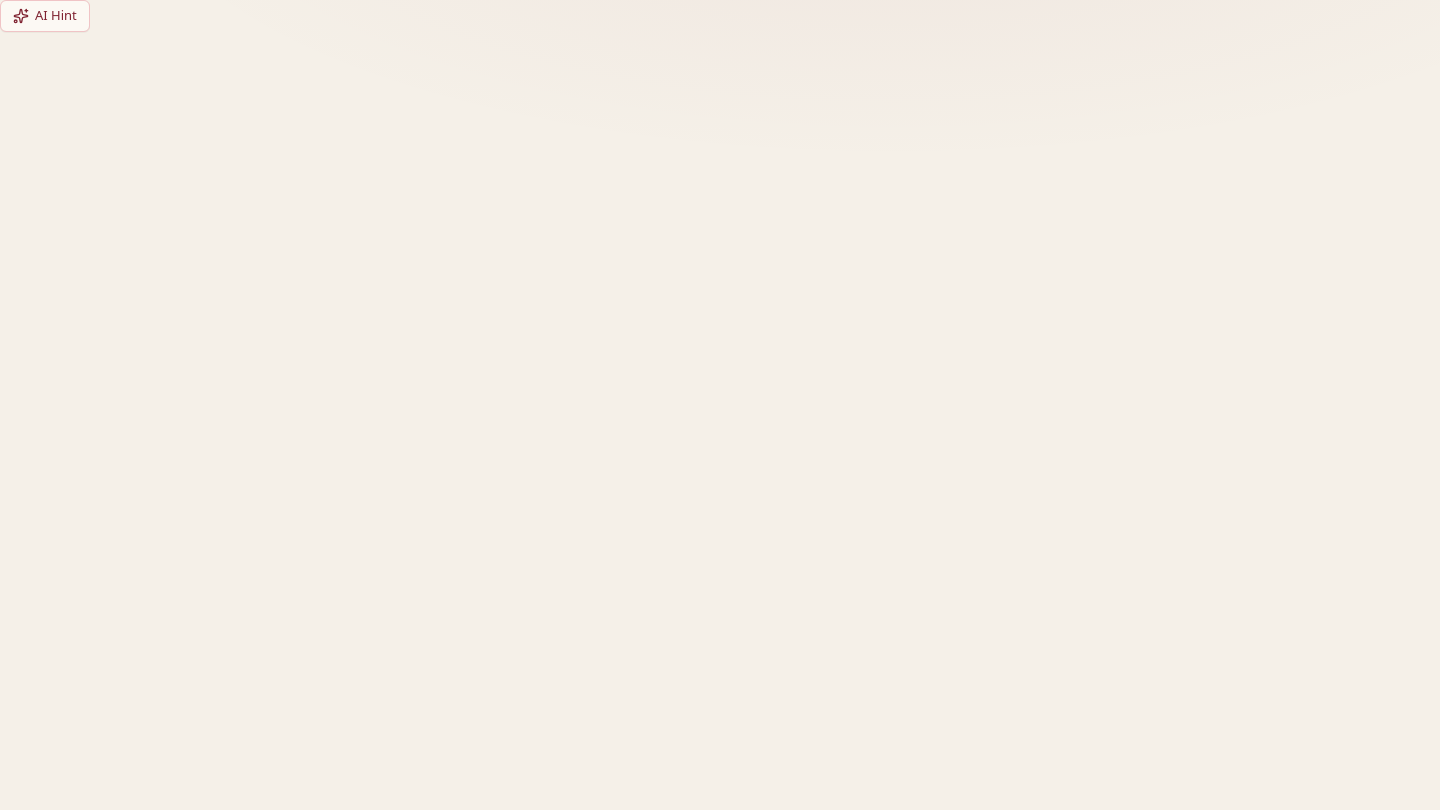
Scenario: a lab’s AI Hint (Phase 7E) › says why when the server refuses a hint, in safe words, and keeps the question
Click the button "AI Hint": (45, 16) [0,0,90,32]
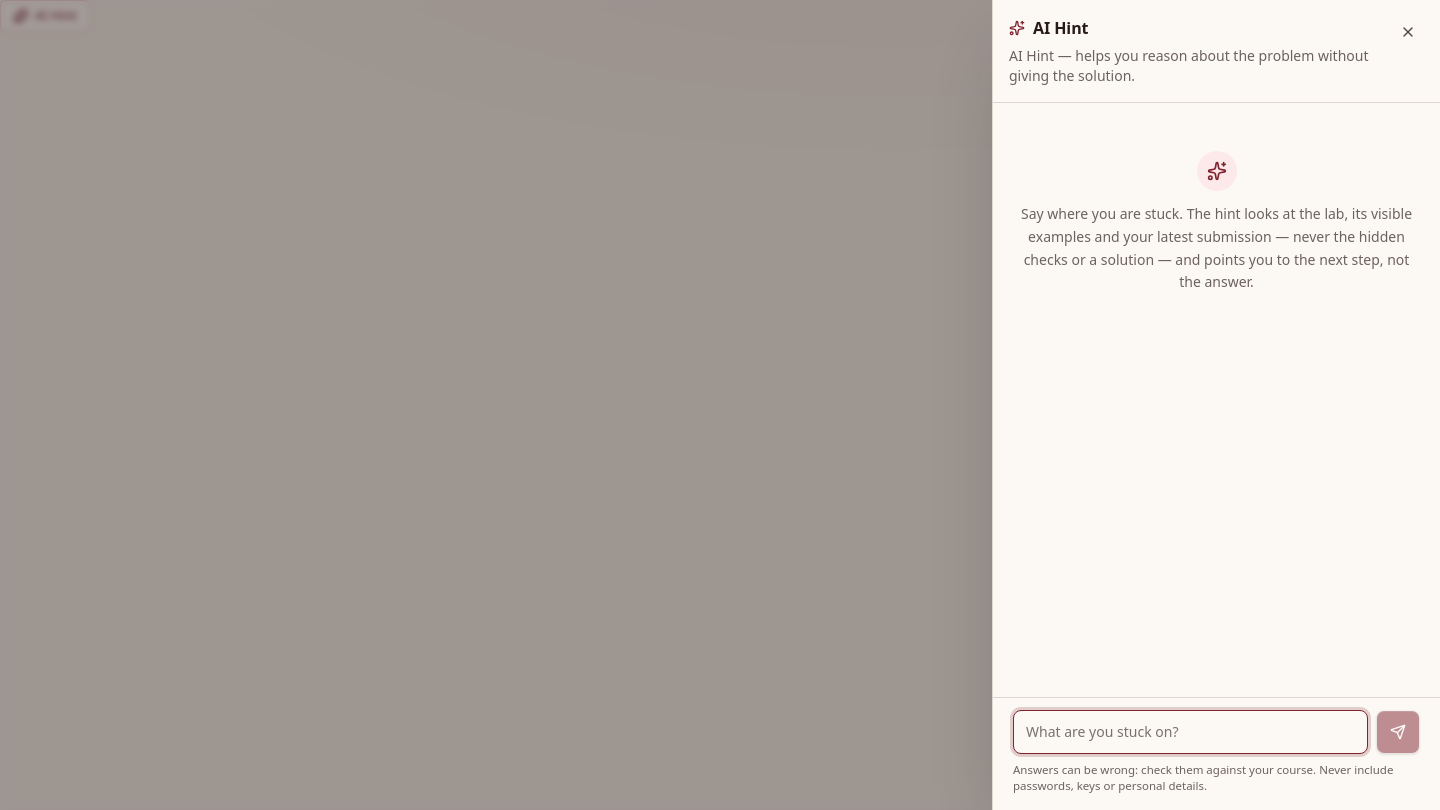
In the text box named "What you are stuck on": (1190, 732) [1013,710,1368,754], type "Help me"
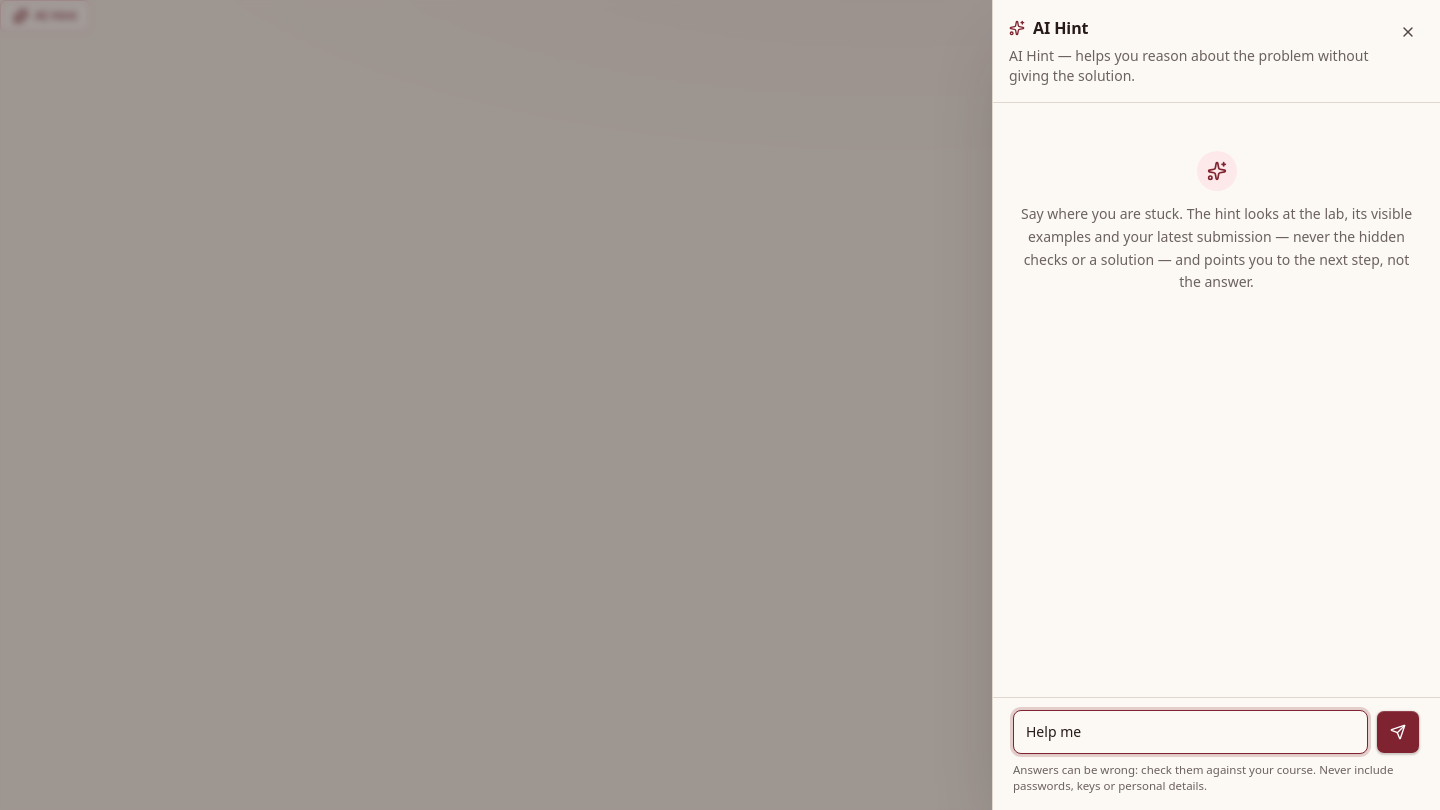
Click the button named "Send": (1398, 732) [1376,710,1420,754]
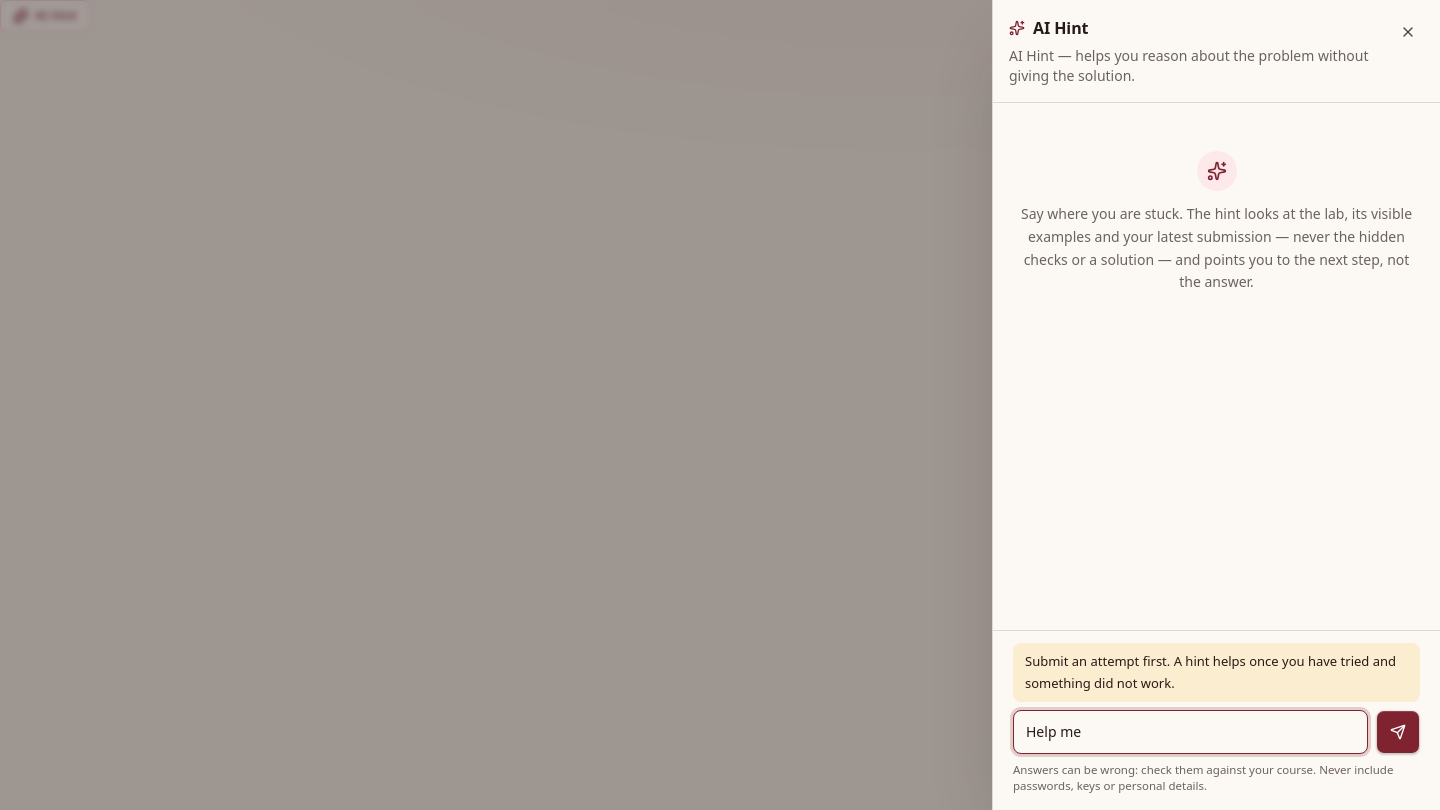
expect the message shows "Submit an attempt first": met, box [1025,652,1396,692]
